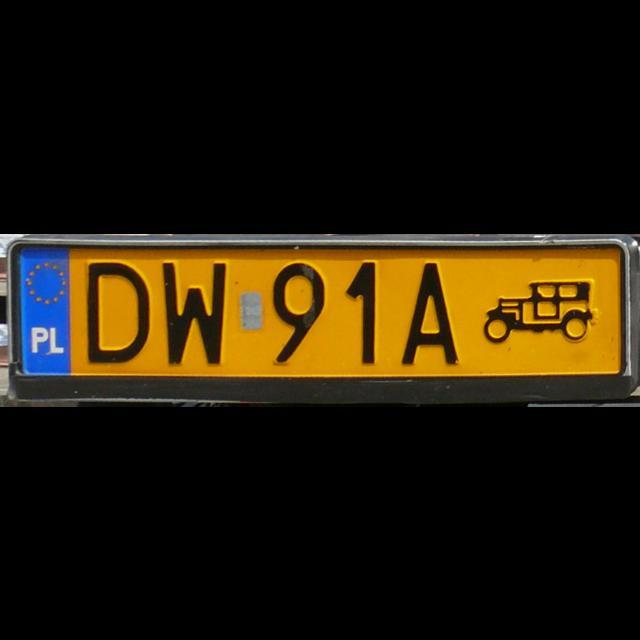license-plates: (15, 245, 625, 377)
